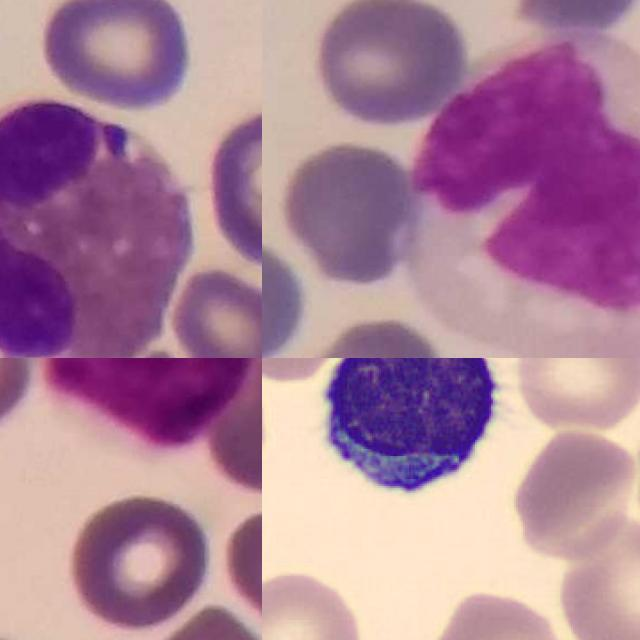Eosinophil: (0, 101, 189, 358)
Lymphocyte: (302, 358, 512, 510), (39, 358, 262, 458)
Monocyte: (403, 39, 640, 358)
RBC: (508, 424, 640, 561), (551, 512, 640, 640), (510, 358, 640, 434), (262, 565, 368, 640)
